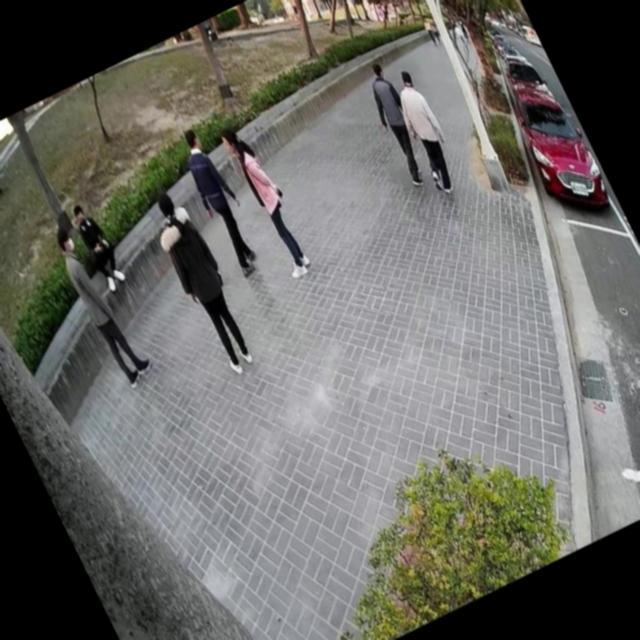person: (134, 177, 268, 385), (43, 210, 160, 396), (164, 115, 274, 286), (213, 112, 320, 283), (378, 57, 472, 200), (351, 52, 441, 192), (59, 194, 132, 296)
